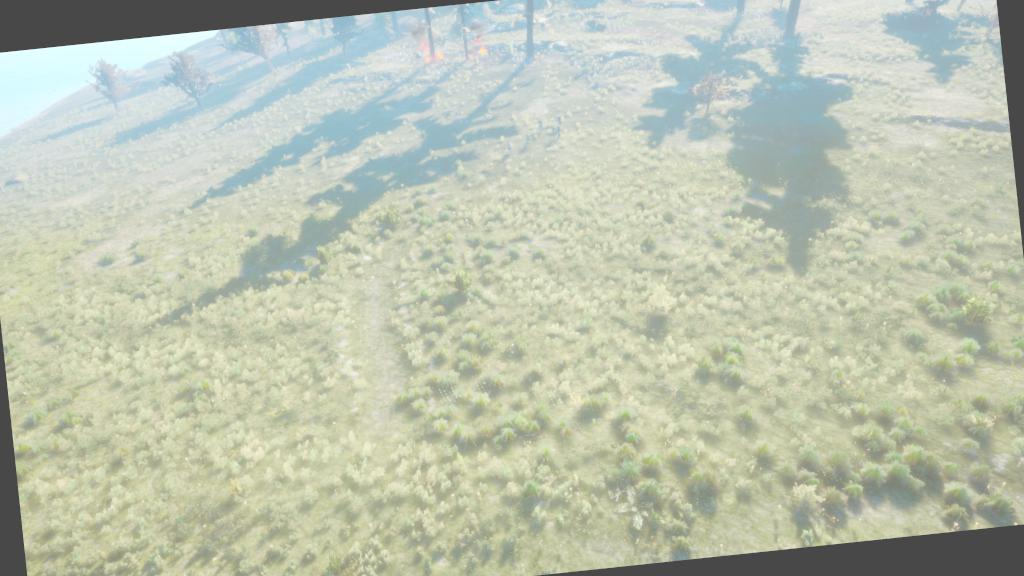Fire: (460, 30, 494, 63), (418, 36, 446, 66)
human: (503, 138, 516, 155), (522, 129, 534, 146), (554, 112, 565, 128), (535, 116, 546, 132), (554, 124, 564, 140), (550, 124, 558, 138)
